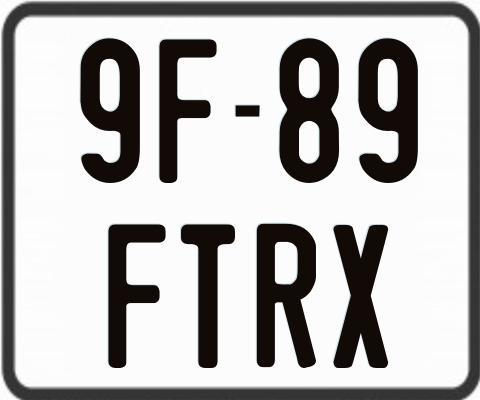8: (279, 37, 340, 185)
9: (356, 35, 419, 185), (79, 38, 141, 185)
F: (105, 224, 167, 371), (158, 37, 219, 186)
R: (254, 222, 316, 366)
T: (178, 222, 232, 372)
X: (331, 223, 388, 371)
